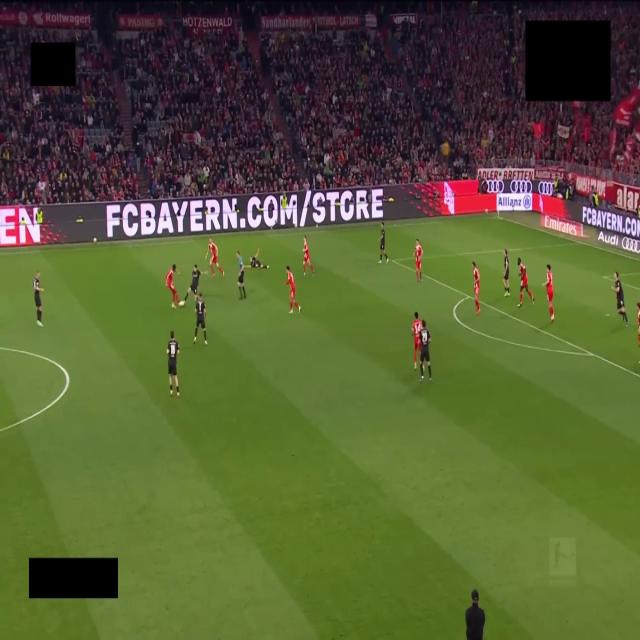ball: (180, 300, 184, 306)
player: (180, 264, 201, 306), (613, 272, 628, 326), (167, 330, 179, 397), (518, 257, 534, 307), (285, 266, 301, 313), (420, 320, 432, 382), (206, 239, 224, 276), (194, 294, 207, 344), (166, 264, 180, 308), (544, 264, 554, 322), (33, 272, 43, 327), (412, 312, 421, 369), (303, 236, 314, 276), (472, 262, 480, 314), (379, 223, 388, 263), (250, 249, 268, 269), (414, 239, 422, 281), (503, 249, 509, 296), (637, 303, 639, 347)
referee: (237, 251, 246, 299)
